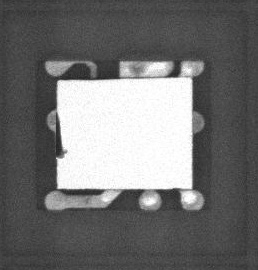DIE_BROKEN: (55, 112, 66, 162)
